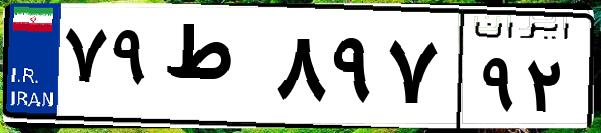2: (525, 38, 570, 115)
7: (385, 28, 445, 110), (57, 26, 110, 100)
8: (270, 28, 330, 110)
9: (330, 28, 385, 110), (475, 38, 525, 113), (110, 28, 158, 98)
ط: (158, 20, 270, 120)
